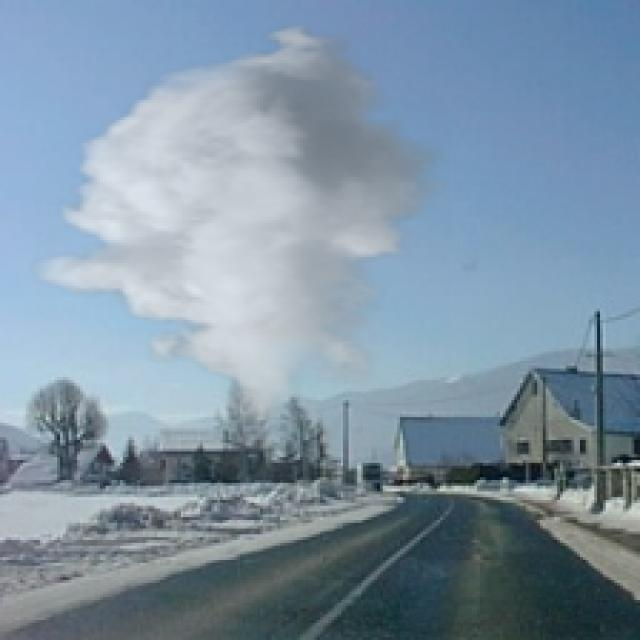Smoke: (29, 20, 452, 423)
